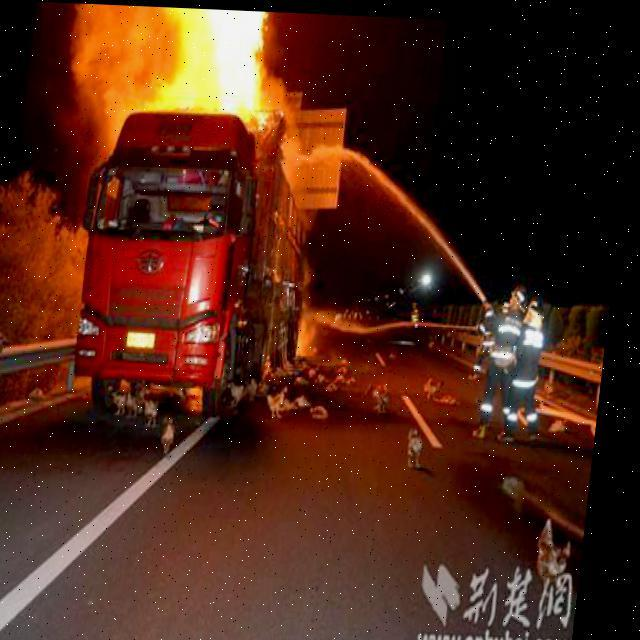Fire: (82, 8, 292, 142)
